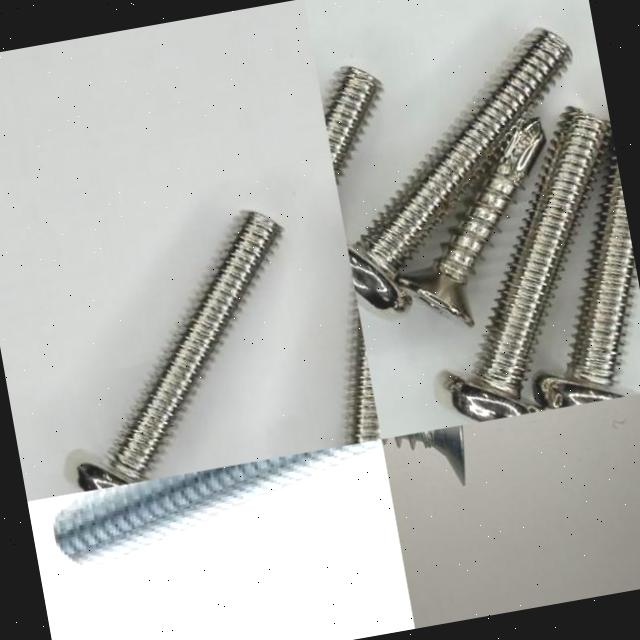Screw: (346, 30, 570, 312), (76, 211, 280, 491), (445, 108, 610, 421), (53, 439, 383, 566), (395, 117, 546, 327), (533, 140, 637, 409), (323, 67, 381, 181), (391, 425, 465, 487)
